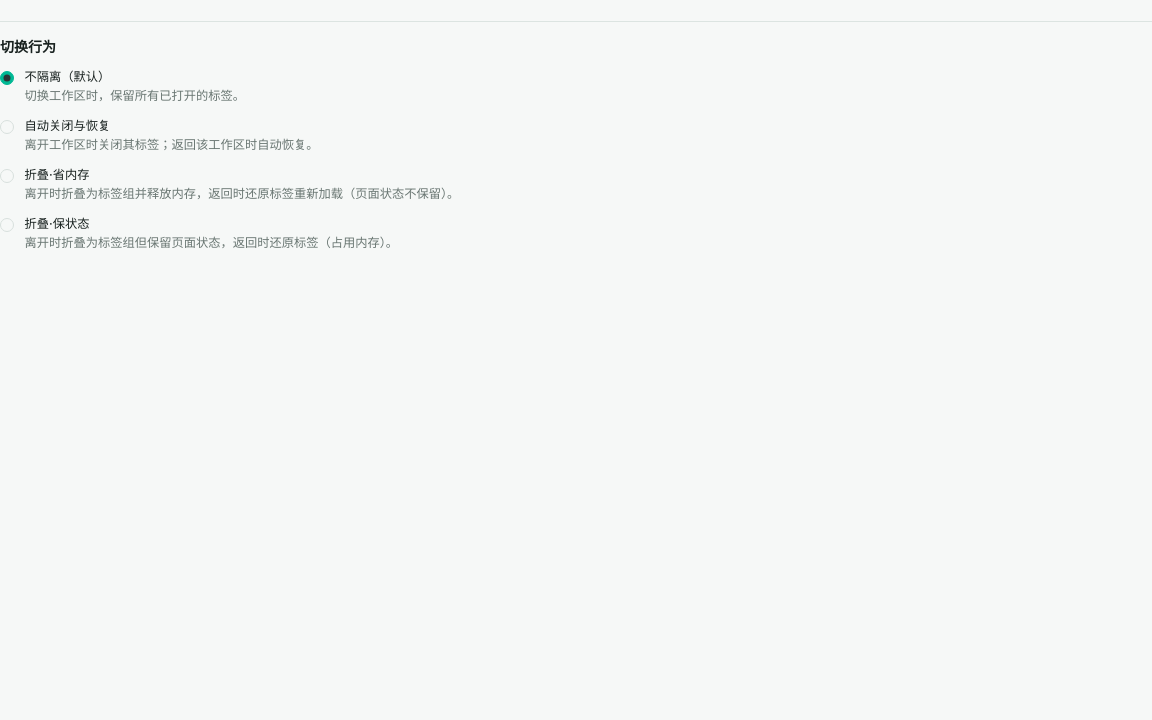
Test case: WorkspaceTabsSection — 工作区标签隔离设置分区 › off→hide-discard + 本窗有可归档 tab → 弹确认 Dialog
Expected: the radio button named "不隔离" next to "不隔离（默认）" is checked, [0, 71, 14, 85]
Click the radio button named "折叠·省内存" next to "折叠·省内存" at (7, 176), box [0, 169, 14, 183]
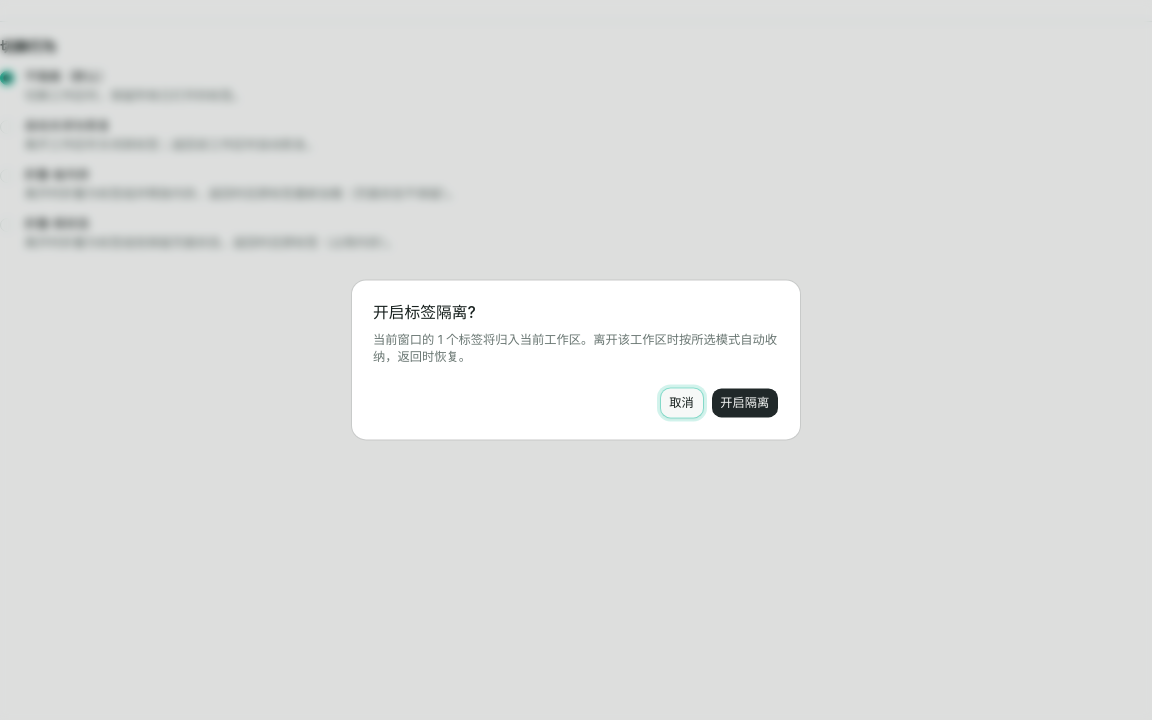
Expected: the dialog shows "1 个标签", [352, 280, 800, 440]
